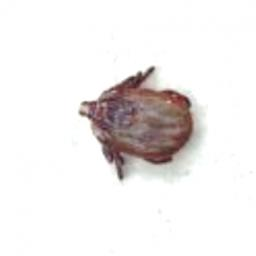Rhipicephalus sanguineus: (77, 66, 192, 180)
